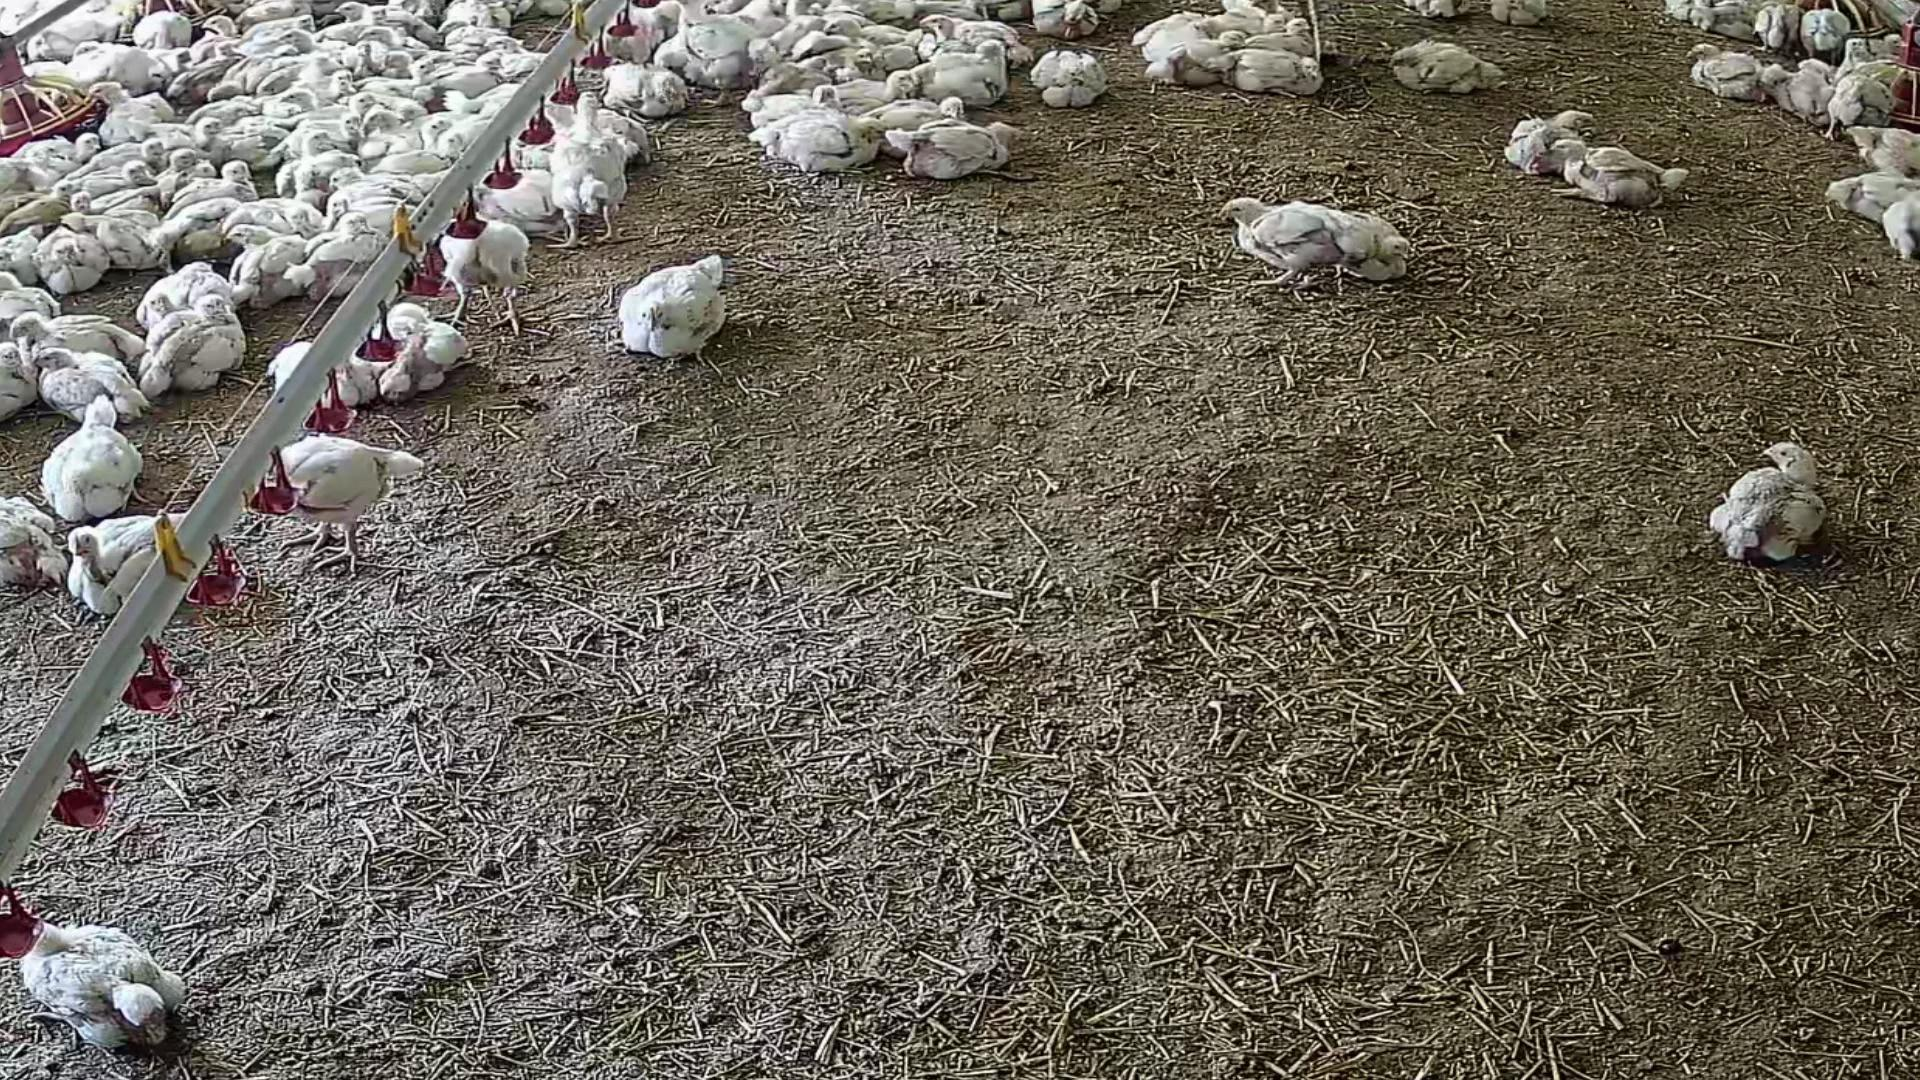poussin: (17, 898, 207, 1080), (1648, 415, 1862, 574), (1226, 178, 1367, 307), (274, 443, 400, 583), (41, 406, 174, 518), (58, 509, 178, 628), (443, 208, 546, 342), (621, 253, 750, 359), (558, 91, 640, 240), (146, 298, 248, 407), (1383, 28, 1516, 109), (1559, 133, 1693, 214), (665, 0, 758, 109), (895, 124, 1015, 196), (32, 339, 145, 415), (761, 111, 880, 182), (385, 309, 471, 401), (906, 41, 1017, 108), (0, 487, 65, 595), (231, 227, 314, 307), (1335, 202, 1415, 284), (1838, 37, 1898, 142), (1513, 102, 1594, 178), (319, 212, 390, 295), (1767, 46, 1840, 125), (1685, 38, 1764, 109), (607, 61, 700, 120), (1029, 50, 1113, 115), (1830, 156, 1905, 228), (8, 309, 129, 353), (78, 199, 164, 262), (918, 7, 1021, 58), (1150, 33, 1250, 84), (1824, 121, 1920, 171), (1234, 46, 1328, 95), (86, 78, 158, 140), (1126, 4, 1216, 50), (745, 75, 844, 116), (37, 229, 105, 287), (836, 70, 935, 109), (218, 57, 305, 99), (1799, 4, 1857, 66), (365, 58, 439, 105), (33, 129, 98, 183), (1033, 0, 1116, 40), (831, 15, 916, 51), (137, 4, 203, 51), (356, 105, 433, 145), (335, 0, 430, 32), (876, 99, 971, 131), (1208, 4, 1287, 41), (1241, 18, 1320, 51), (485, 33, 539, 79), (436, 17, 506, 53), (152, 115, 224, 149), (200, 90, 282, 120), (0, 339, 30, 419), (291, 109, 368, 141), (194, 0, 240, 50), (334, 167, 436, 190), (1754, 0, 1800, 49), (179, 167, 256, 196), (278, 28, 348, 59), (150, 37, 196, 80), (316, 183, 363, 219), (1491, 0, 1553, 26), (280, 83, 331, 112), (1408, 0, 1482, 20), (353, 26, 410, 51), (822, 49, 880, 70), (353, 44, 392, 74), (117, 157, 160, 182), (316, 71, 359, 96), (167, 152, 204, 170), (142, 140, 166, 161), (74, 44, 102, 61)
